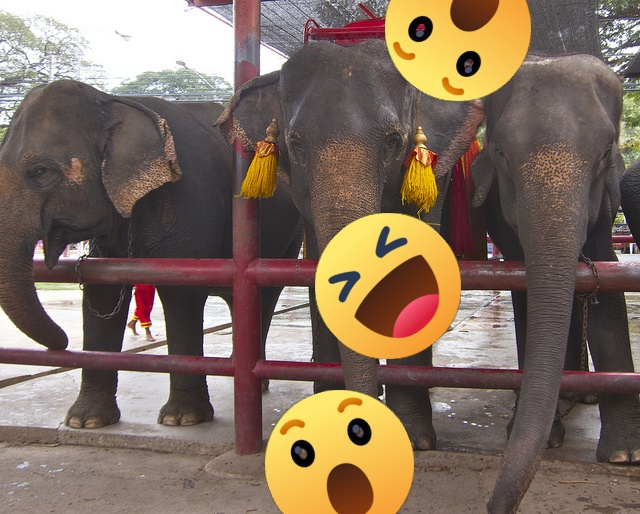haha: (315, 213, 461, 359)
wow: (265, 390, 414, 514), (385, 0, 531, 101)
